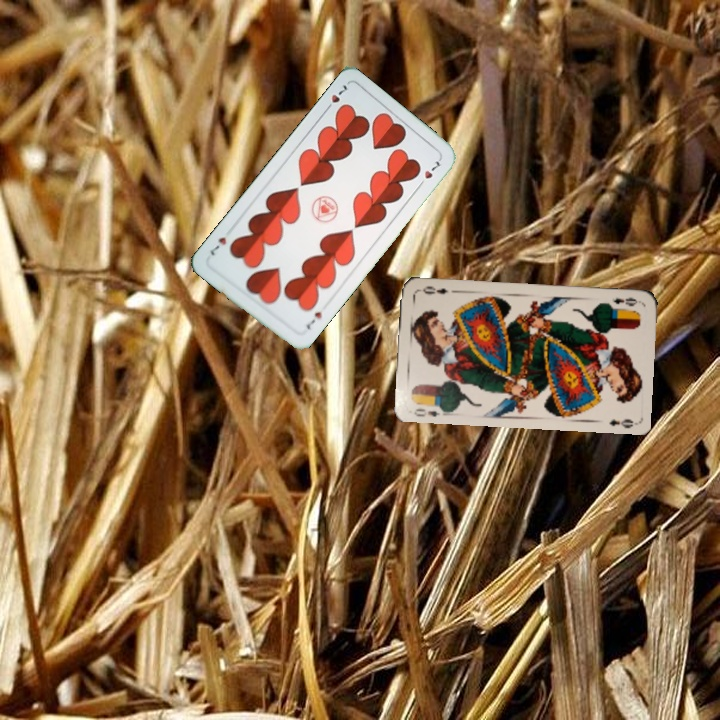EO: (410, 401, 448, 419), (602, 293, 643, 309)
H7: (320, 80, 350, 114), (302, 306, 326, 332)
